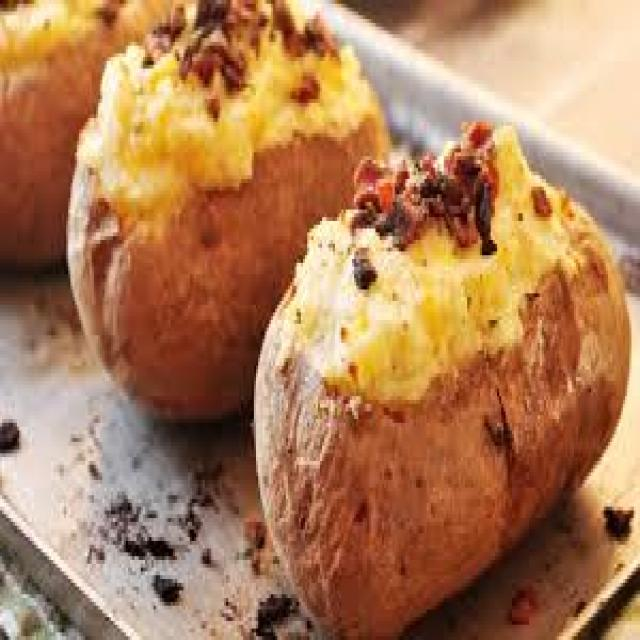Food -Biodegradable-: (0, 0, 628, 640)
